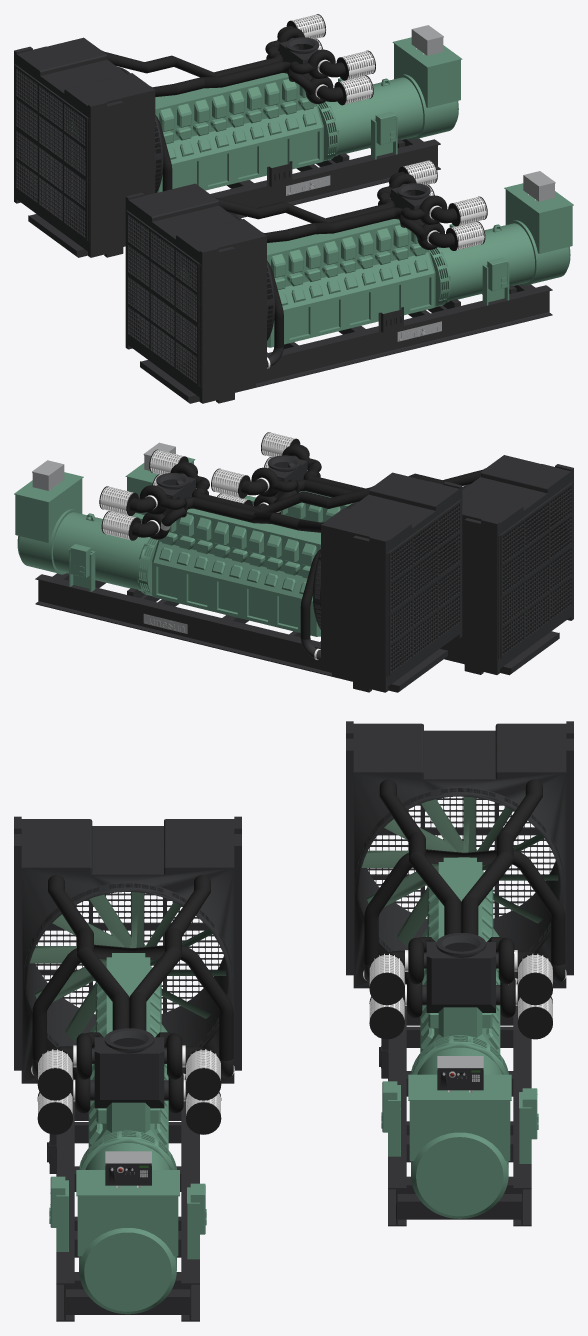
The model's file is 9_發電機組本體RZ2000.glb.
3 views of the same model, one above another, from view 1: azimuth 30°, elevation 25°; view 2: azimuth 150°, elevation 25°; view 3: azimuth 270°, elevation 25° (orthographic). The views are drawn at different scales.
Parts seen in each view (by area): view 1: 發電機 發電機 [1264840], 發電機 發電機 [1288682]; view 2: 發電機 發電機 [1288682], 發電機 發電機 [1264840]; view 3: 發電機 發電機 [1288682], 發電機 發電機 [1264840].
Part boxes in pixels (x1=…): 發電機 發電機 [1264840]: x1=125, y1=160, x2=573, y2=403; 發電機 發電機 [1288682]: x1=14, y1=14, x2=462, y2=257; 發電機 發電機 [1288682]: x1=14, y1=449, x2=462, y2=692; 發電機 發電機 [1264840]: x1=125, y1=432, x2=573, y2=675; 發電機 發電機 [1288682]: x1=346, y1=721, x2=573, y2=1226; 發電機 發電機 [1264840]: x1=14, y1=816, x2=241, y2=1321.
Size of the model in its own units: 6.52 by 3.58 by 5.4.
